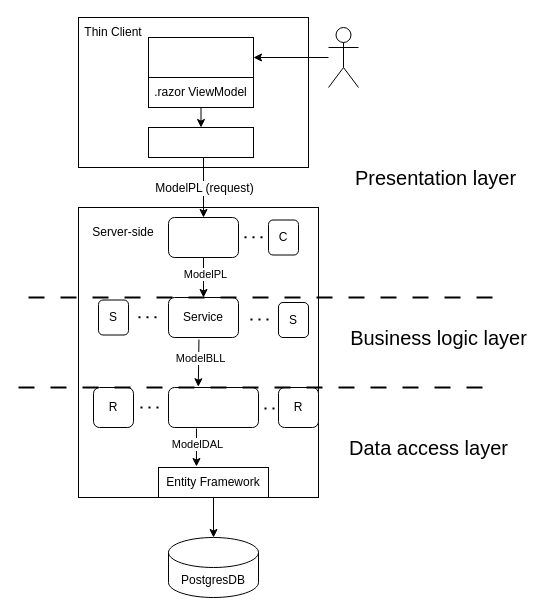
Some shapes in this 555 by 615 pixel diagram are drawn without their labels. The box of each missing label's shape, as (x1, y1, x2, y2) in pixels:
.razor View: (148, 36, 254, 78)
Controller: (168, 216, 238, 258)
HttpClient: (148, 126, 254, 158)
Repository: (168, 386, 258, 428)
